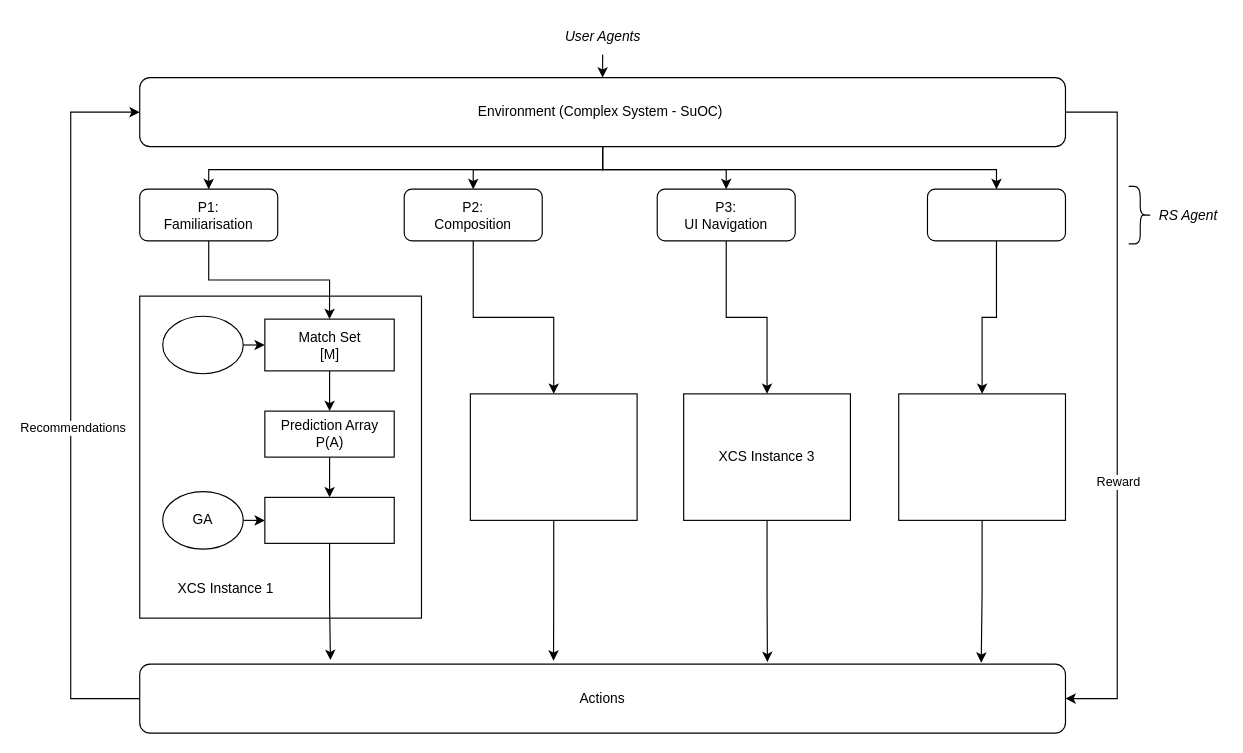
This 1243x753 diagram has some shape labels left out. The centre of each missing label's shape, as x and y in pixels:
Action Set [A]: the point at 329,519
Covering: the point at 202,344
P4: Live Assistance: the point at 995,214
XCS Instance 2: the point at 553,456
XCS Instance 4: the point at 981,456
